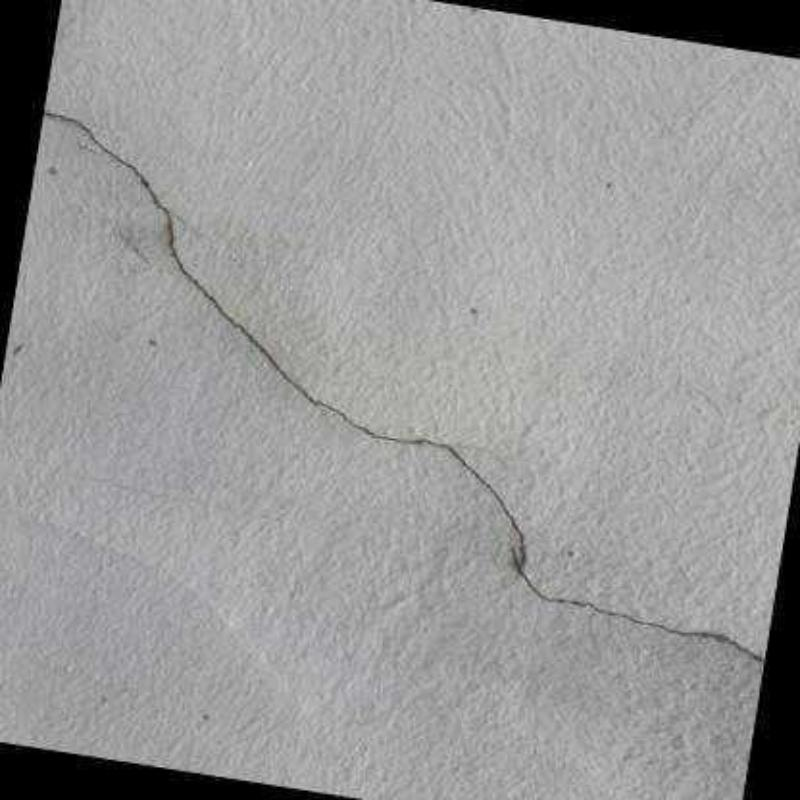pothole: (42, 110, 524, 562), (517, 570, 759, 659)
